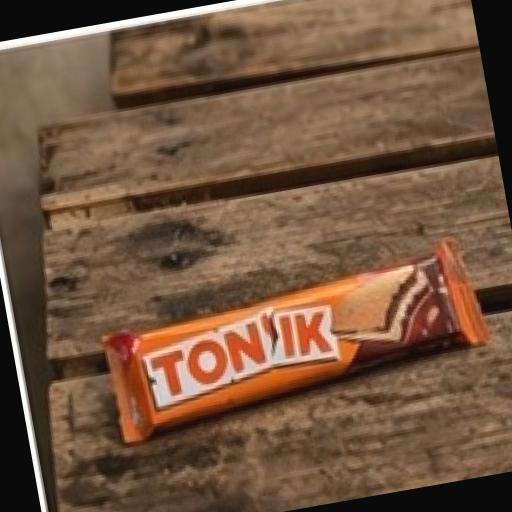tonik: (31, 145, 512, 512)
